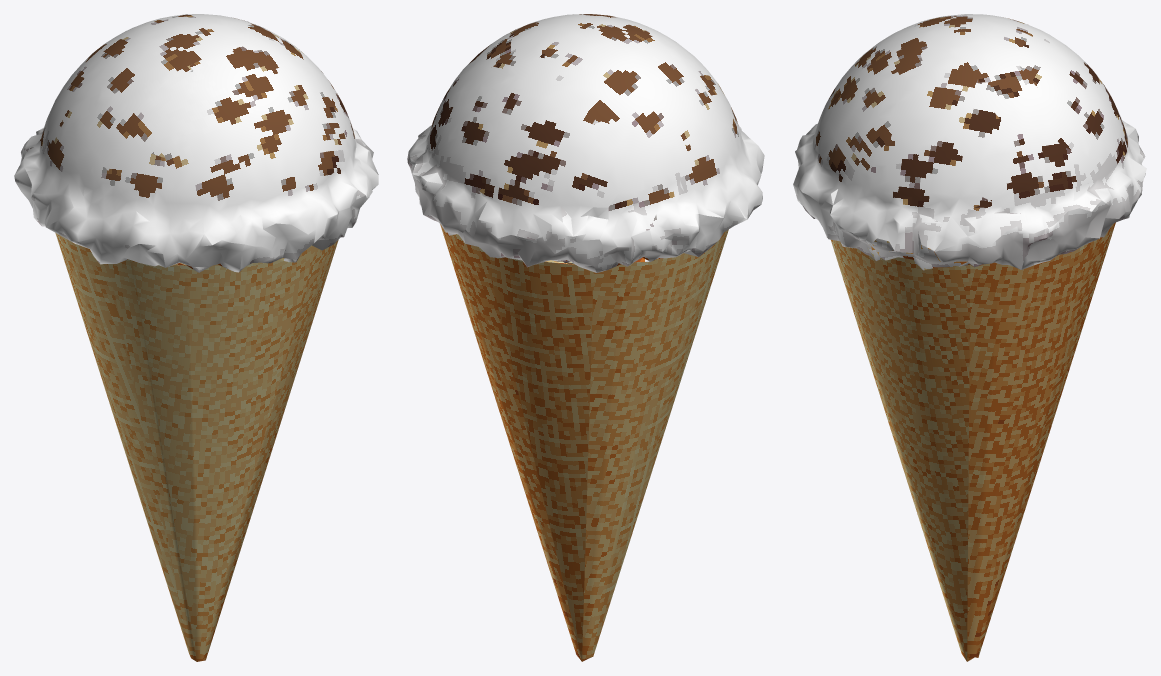
Rendered from softserve_m.glb.
3 renders of one model, left to right at view 1: azimuth 30°, elevation 25°; view 2: azimuth 150°, elevation 25°; view 3: azimuth 270°, elevation 25°, orthographic.
Visible parts, largest first — view 1: mesh; view 2: mesh; view 3: mesh.
Part boxes in pixels (left/top/right/bottom): mesh: left=14, top=14, right=378, bottom=661; mesh: left=407, top=14, right=764, bottom=661; mesh: left=793, top=14, right=1146, bottom=661.
Bounding box in the file's own units: 0.1296 × 0.25 × 0.1272.
1 material, 1 textured.
